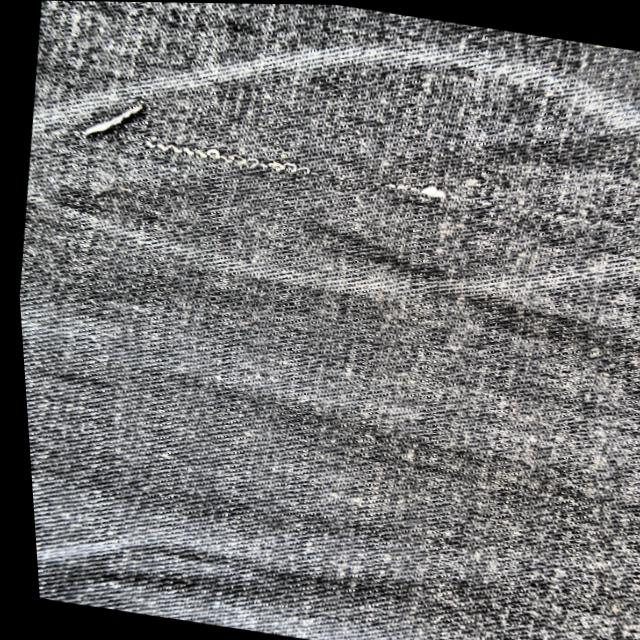Hole: (140, 118, 326, 190), (382, 162, 468, 215)
Stitch: (60, 73, 147, 150)
